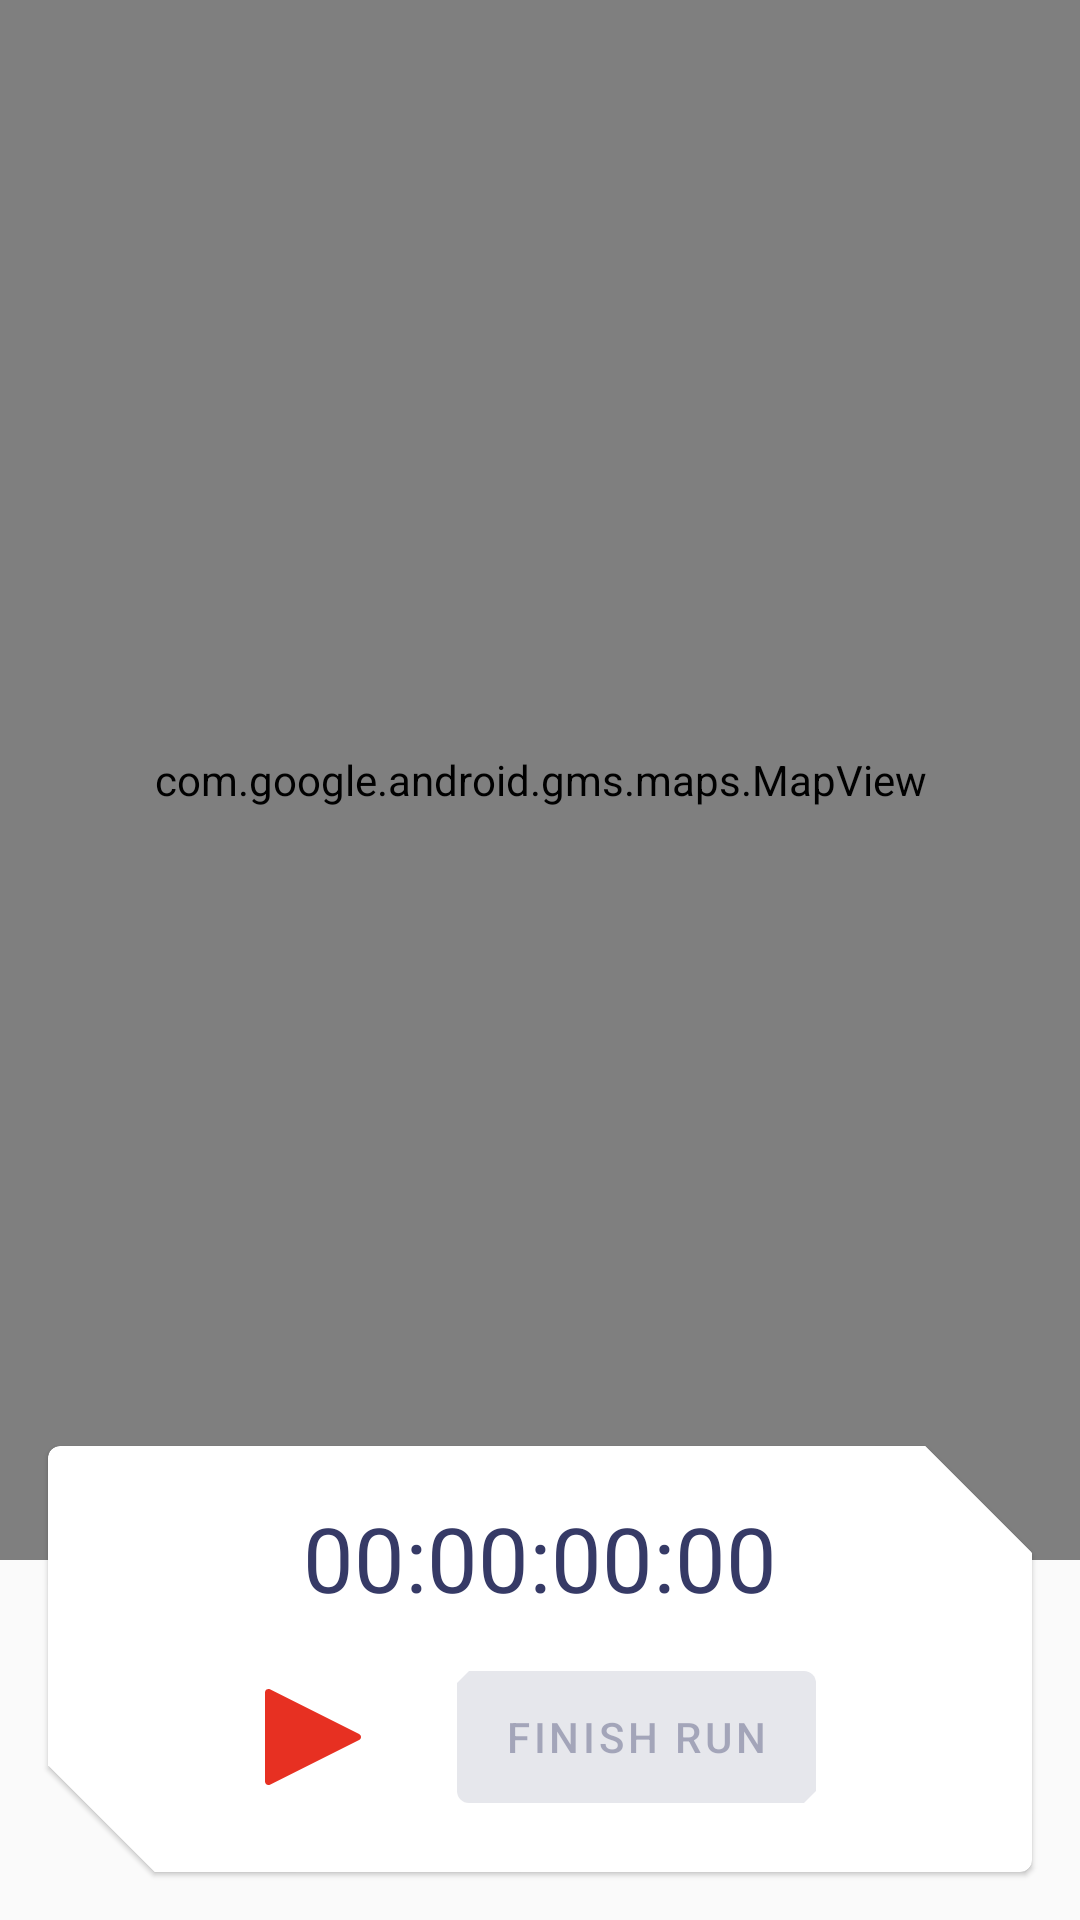

Screen size 1080 x 1920. Icon name, then its center in pixels as point (x, y):
Start run: point (313, 1737)
